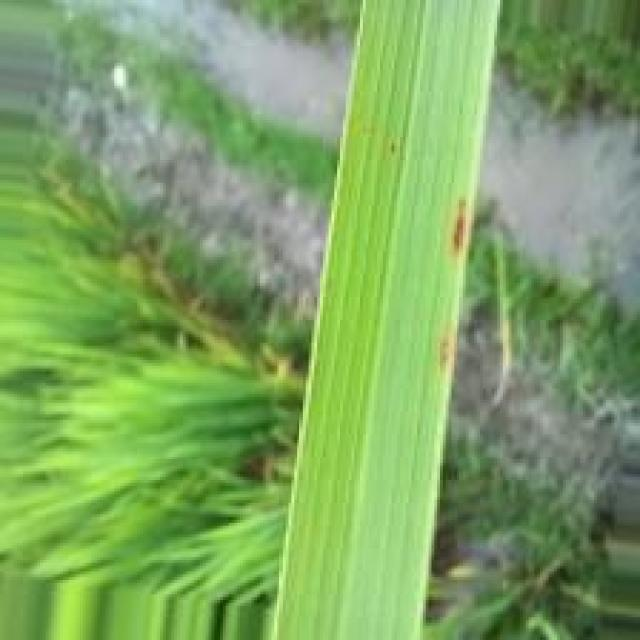Brown_Spot: (448, 197, 473, 260), (435, 333, 454, 372)
